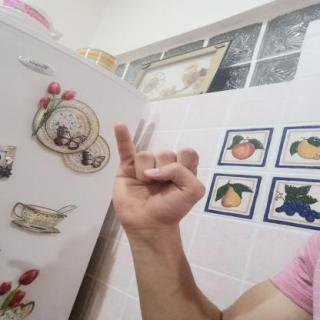MEEM: (93, 114, 220, 238)
